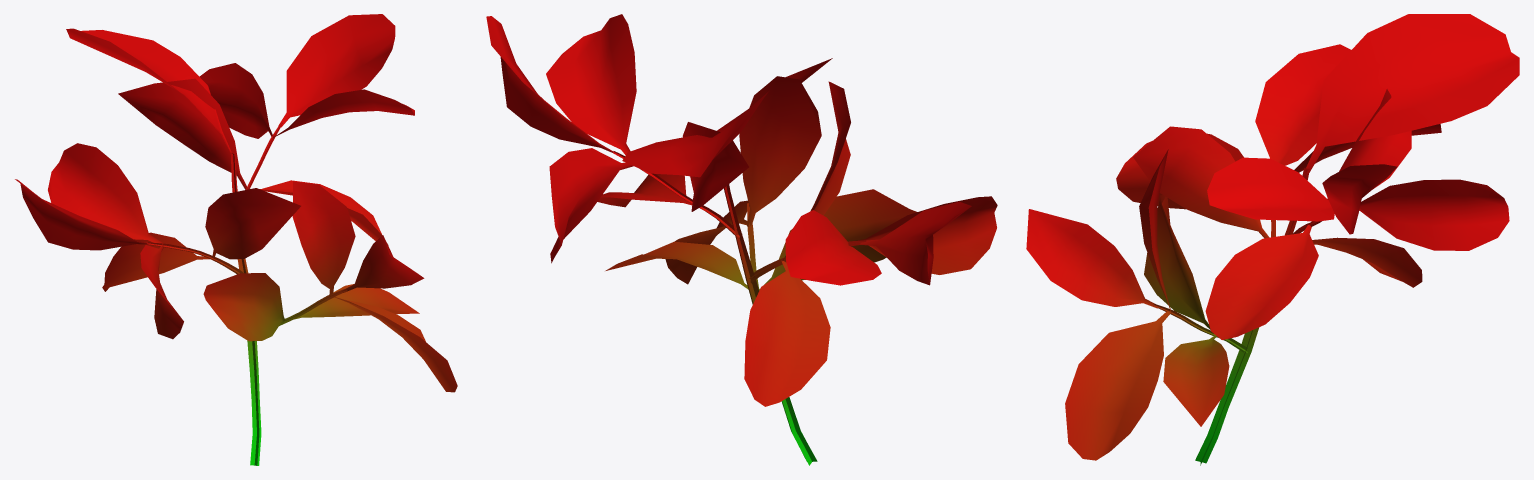
The model's file is Var1_LOD0.fbx.
3 views of the same model, side by side, from view 1: azimuth 30°, elevation 25°; view 2: azimuth 150°, elevation 25°; view 3: azimuth 270°, elevation 25° (orthographic). The views are drawn at different scales.
Visible parts, largest first — view 1: _p7ri_Var1_LOD0; view 2: _p7ri_Var1_LOD0; view 3: _p7ri_Var1_LOD0.
Boxes of the visible parts, left/top/right/bottom form: _p7ri_Var1_LOD0: left=15, top=14, right=457, bottom=465; _p7ri_Var1_LOD0: left=486, top=14, right=997, bottom=465; _p7ri_Var1_LOD0: left=1026, top=14, right=1519, bottom=465.
Size of the model in its own units: 24.62 by 23.38 by 24.86.
